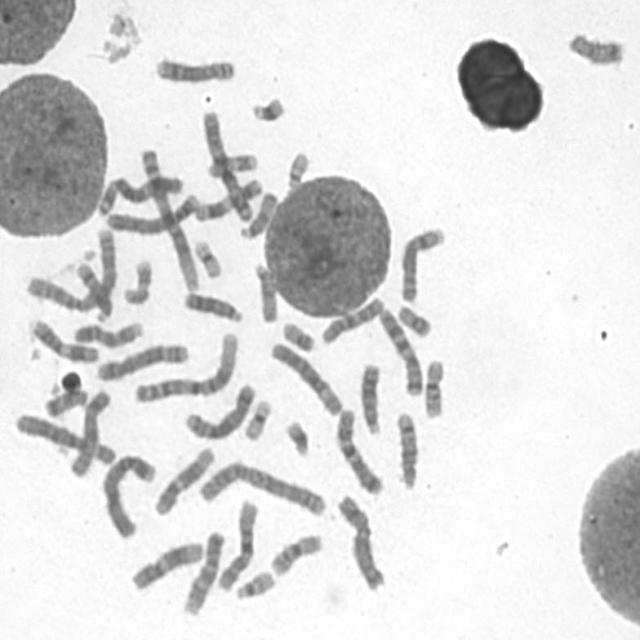A1: (134, 141, 202, 292), (129, 326, 241, 406)
A2: (22, 221, 118, 314), (194, 455, 329, 518)
A3: (198, 105, 256, 223), (93, 169, 186, 218)
B4: (97, 449, 159, 541), (102, 189, 202, 236)
B5: (180, 378, 258, 442), (92, 337, 192, 384)
C10: (213, 494, 260, 594), (317, 292, 386, 347)
C11: (26, 314, 101, 365), (191, 172, 265, 222)
C12: (150, 442, 218, 518), (127, 536, 206, 592)
C6: (266, 336, 345, 418), (10, 408, 119, 466)
C7: (331, 403, 386, 498), (374, 302, 425, 399)
C8: (395, 220, 448, 304), (151, 52, 238, 84)
C9: (179, 525, 227, 618), (68, 317, 144, 350)
D13: (179, 287, 245, 325), (356, 357, 384, 437)
D14: (70, 255, 114, 323), (392, 407, 421, 492)
D15: (236, 187, 279, 240), (250, 257, 280, 325)
E16: (266, 528, 325, 578), (420, 354, 448, 421)
E17: (119, 253, 154, 307), (203, 147, 260, 178)
E18: (564, 27, 627, 68), (41, 384, 90, 419)
F19: (240, 394, 274, 442), (189, 235, 224, 280)
F20: (394, 299, 434, 339), (278, 317, 318, 353)
G21: (280, 415, 312, 459), (246, 91, 288, 124)
G22: (231, 566, 277, 602), (282, 146, 312, 190)
X: (332, 489, 388, 593), (65, 385, 113, 479)
